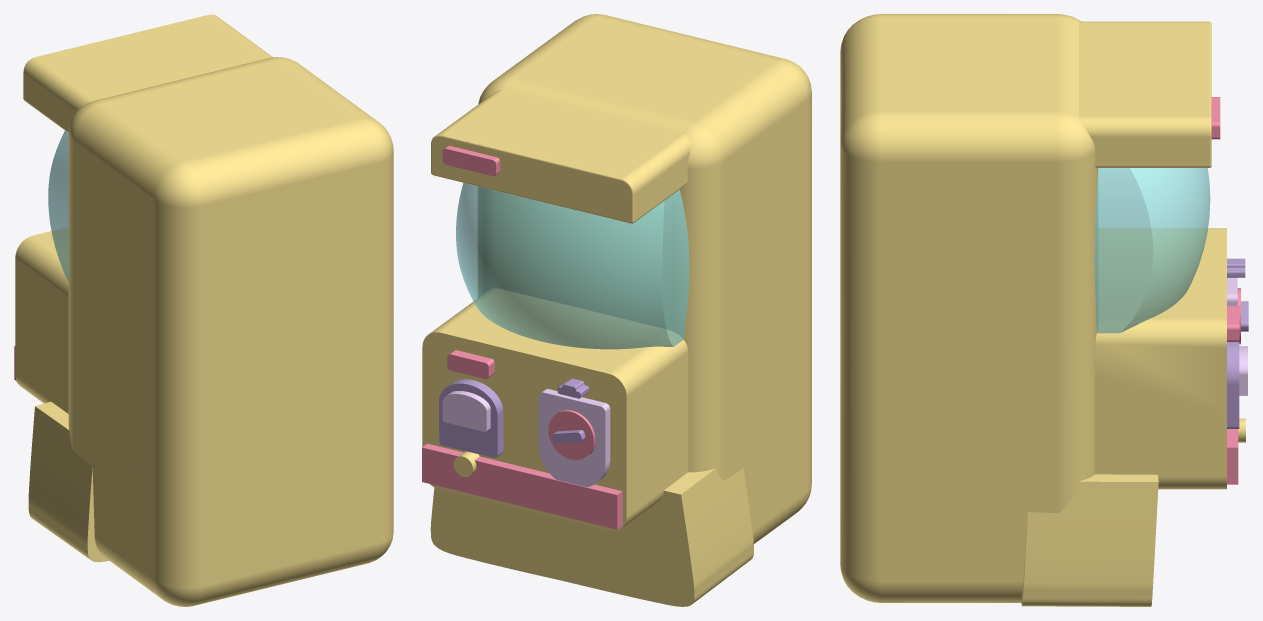
Rendered from machine.glb.
3 renders of one model, left to right at view 1: azimuth 30°, elevation 25°; view 2: azimuth 150°, elevation 25°; view 3: azimuth 270°, elevation 25°, orthographic. The views are drawn at different scales.
Parts seen in each view (by area): view 1: Layer 01; view 2: Layer 01; view 3: Layer 01.
Part boxes in pixels (x1,y1,x2,y2): Layer 01: [14, 14, 393, 606]; Layer 01: [422, 14, 811, 606]; Layer 01: [840, 14, 1248, 606].
Bounding box in the file's own units: 0.0778 × 0.1309 × 0.0993.
